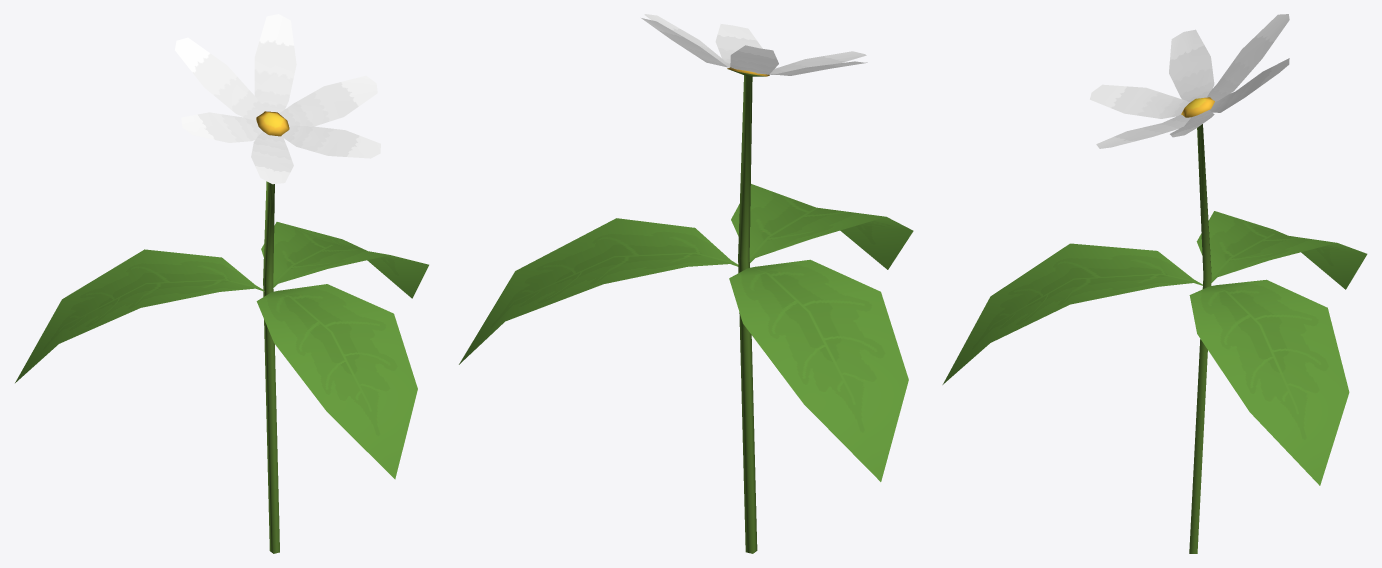
File: AnemoneWhite.fbx
3 views of the same model, side by side, from view 1: azimuth 30°, elevation 25°; view 2: azimuth 150°, elevation 25°; view 3: azimuth 270°, elevation 25° (orthographic). The views are drawn at different scales.
Parts seen in each view (by area): view 1: AnemoneWhite; view 2: AnemoneWhite; view 3: AnemoneWhite.
Part boxes in pixels (x1,y1,x2,y2): AnemoneWhite: [15, 14, 428, 553]; AnemoneWhite: [459, 14, 913, 553]; AnemoneWhite: [942, 14, 1367, 553].
Bounding box in the file's own units: 394 × 481 × 361.
